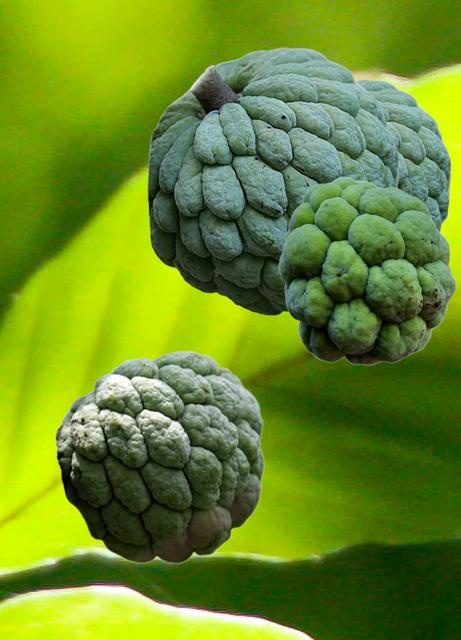atis: (147, 47, 398, 315), (54, 350, 264, 563), (278, 176, 455, 365), (357, 79, 450, 230)
